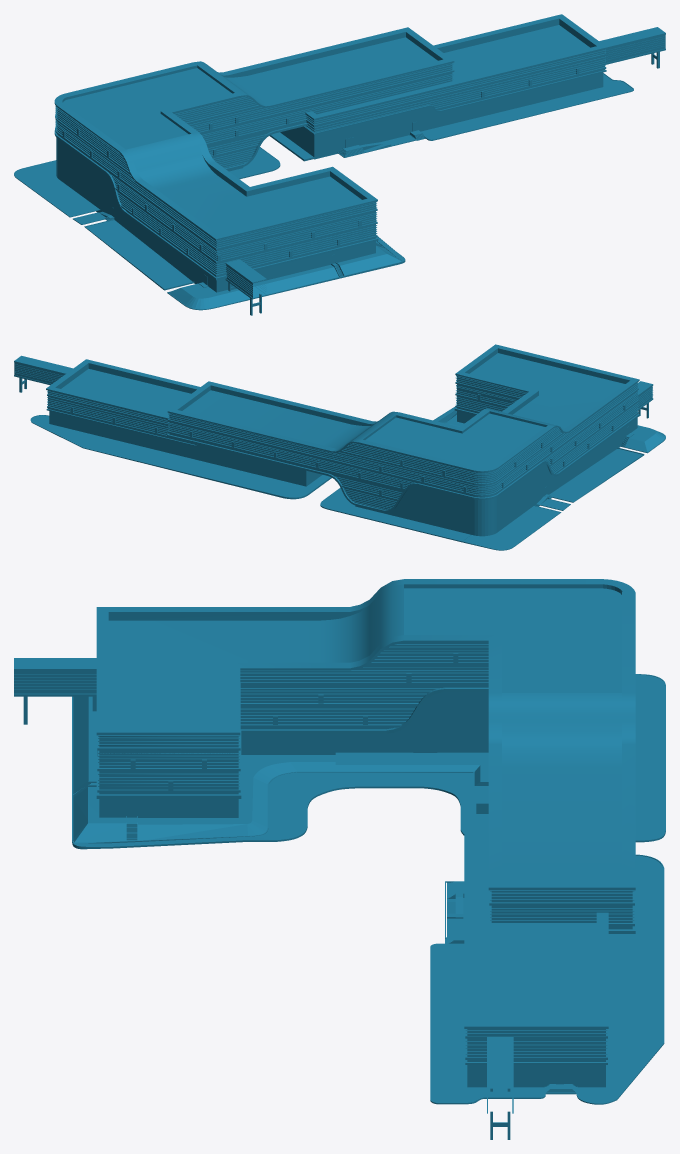
Rendered from yq_yanfalou.glb.
The picture shows the model from 3 angles, top to bottom: view 1: azimuth 30°, elevation 25°; view 2: azimuth 150°, elevation 25°; view 3: azimuth 270°, elevation 25°; orthographic projection. The views are drawn at different scales.
Parts seen in each view (by area): view 1: yq_yafalou43, yq_yafalou_outline03, yq_yafalou_outline01, yq_yafalou30, yq_yafalou_outline04, yq_yafalou_outline02, yq_yafalou29, yq_yafalou41, yq_yafalou15, yq_yafalou35, yq_yafalou36, yq_yafalou04 (+9 smaller); view 2: yq_yafalou_outline03, yq_yafalou43, yq_yafalou30, yq_yafalou_outline04, yq_yafalou_outline01, yq_yafalou_outline02, yq_yafalou01, yq_yafalou29, yq_yafalou_outline05, yq_yafalou36, yq_yafalou04, yq_yafalou_outline06 (+8 smaller); view 3: yq_yafalou43, yq_yafalou_outline03, yq_yafalou_outline04, yq_yafalou_outline02, yq_yafalou01, yq_yafalou30, yq_yafalou41, yq_yafalou_outline07, yq_yafalou03, yq_yafalou29, yq_yafalou_outline01, yq_yafalou_outline06 (+10 smaller).
Boxes of the visible parts, x1,y1,x2,y2 form: yq_yafalou43: [63, 37, 437, 234]; yq_yafalou_outline03: [56, 63, 452, 292]; yq_yafalou_outline01: [280, 49, 604, 159]; yq_yafalou30: [55, 62, 453, 272]; yq_yafalou_outline04: [54, 27, 454, 240]; yq_yafalou_outline02: [305, 14, 607, 120]; yq_yafalou29: [55, 69, 454, 276]; yq_yafalou41: [421, 74, 633, 139]; yq_yafalou15: [168, 265, 338, 309]; yq_yafalou35: [305, 49, 605, 132]; yq_yafalou36: [86, 220, 192, 288]; yq_yafalou04: [14, 160, 99, 216]; yq_yafalou_outline03: [169, 376, 637, 536]; yq_yafalou43: [182, 353, 625, 468]; yq_yafalou30: [168, 375, 638, 509]; yq_yafalou_outline04: [167, 344, 639, 472]; yq_yafalou_outline01: [48, 390, 322, 486]; yq_yafalou_outline02: [46, 359, 200, 419]; yq_yafalou01: [31, 415, 329, 497]; yq_yafalou29: [167, 381, 638, 500]; yq_yafalou_outline05: [167, 407, 639, 512]; yq_yafalou36: [549, 448, 642, 501]; yq_yafalou04: [463, 506, 559, 549]; yq_yafalou_outline06: [30, 406, 665, 550]; yq_yafalou43: [108, 584, 621, 882]; yq_yafalou_outline03: [99, 643, 632, 929]; yq_yafalou_outline04: [96, 579, 635, 890]; yq_yafalou_outline02: [464, 798, 608, 1028]; yq_yafalou01: [577, 855, 662, 1103]; yq_yafalou30: [98, 644, 634, 920]; yq_yafalou41: [430, 943, 544, 1104]; yq_yafalou_outline07: [361, 713, 664, 840]; yq_yafalou03: [138, 755, 335, 840]; yq_yafalou29: [97, 662, 634, 926]; yq_yafalou_outline01: [467, 1029, 605, 1087]; yq_yafalou_outline06: [72, 674, 665, 1104].
Bounding box in the file's own units: 213 × 27.15 × 126.
